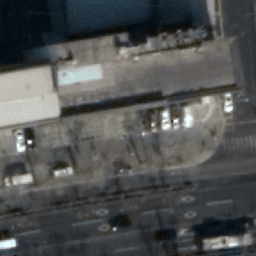car: (4, 174, 34, 186), (182, 104, 194, 128), (15, 130, 26, 153), (223, 92, 234, 115), (159, 110, 171, 131), (52, 166, 74, 177), (1, 239, 18, 249)
